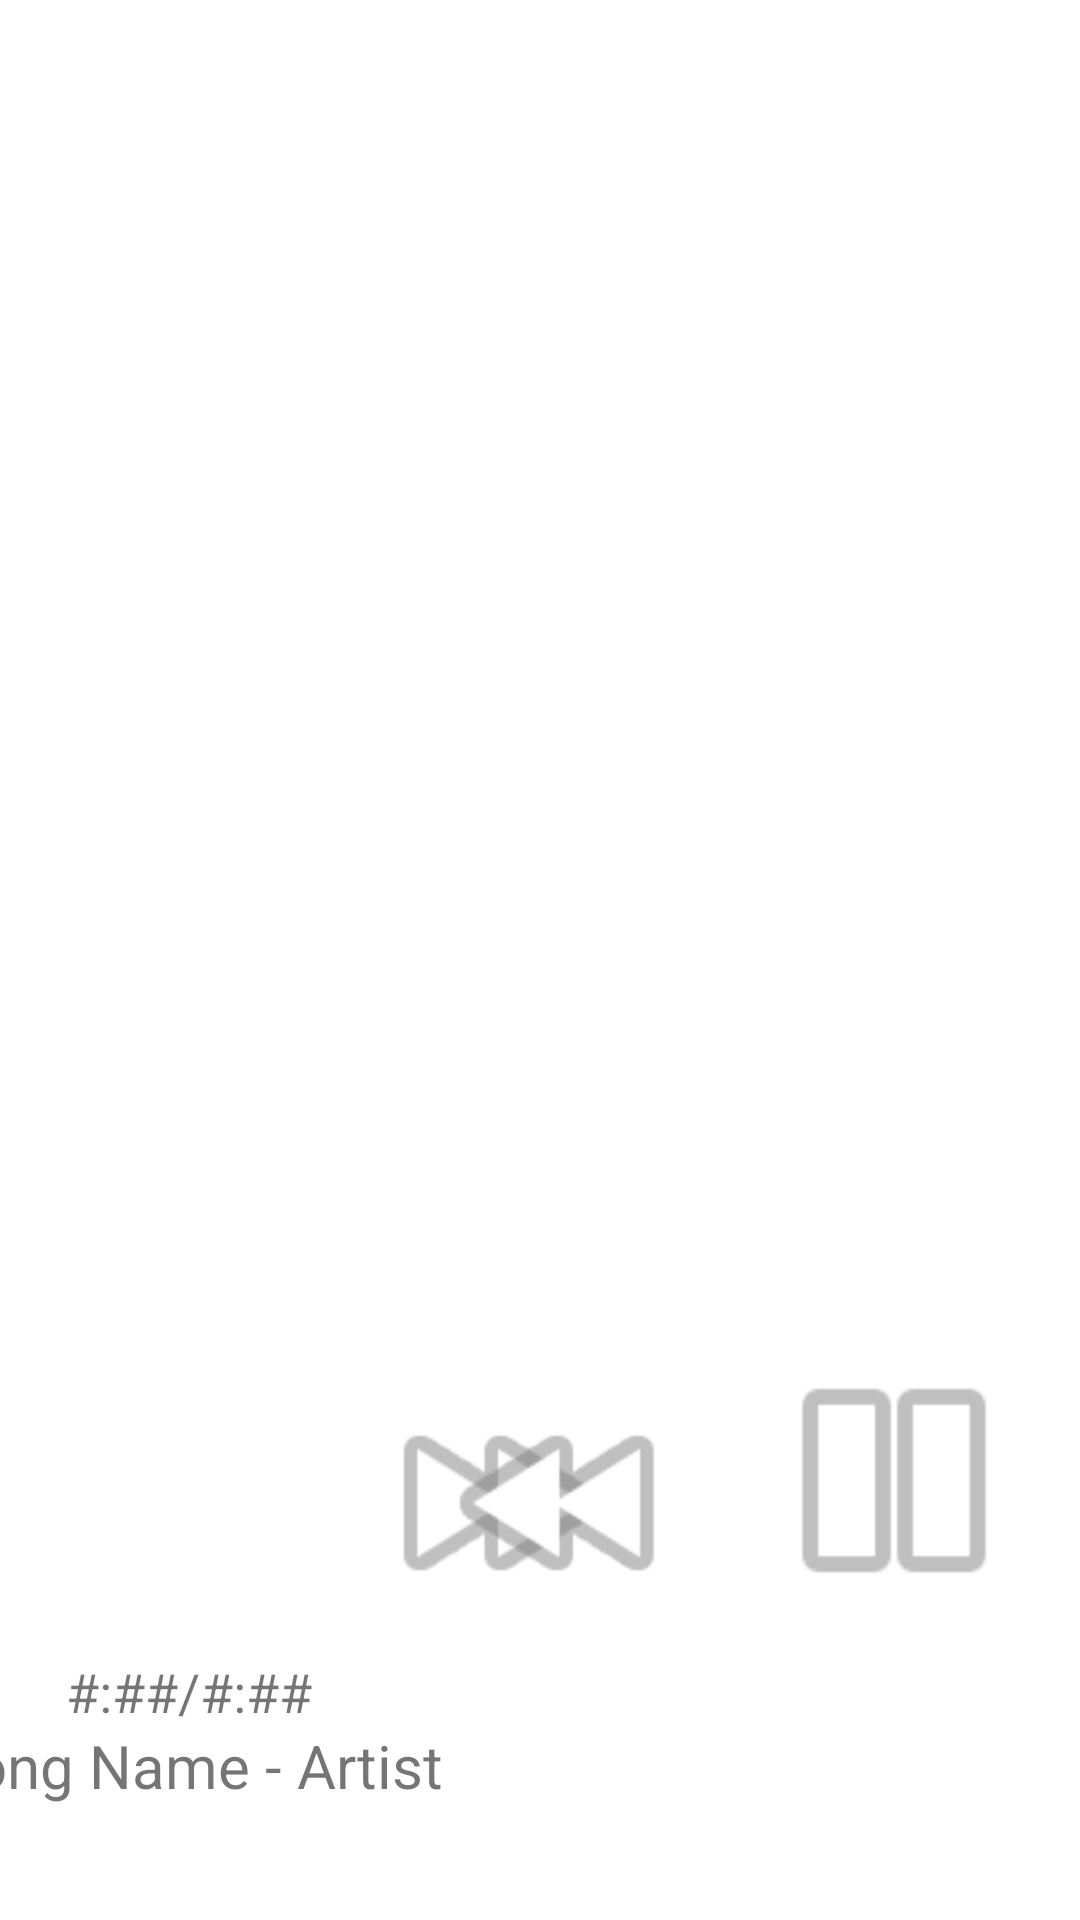

Where icons sit on this 1080 x 1920 app screen, as box=[x1, y1, x2, y2]:
pause: box=[802, 1389, 986, 1572]
